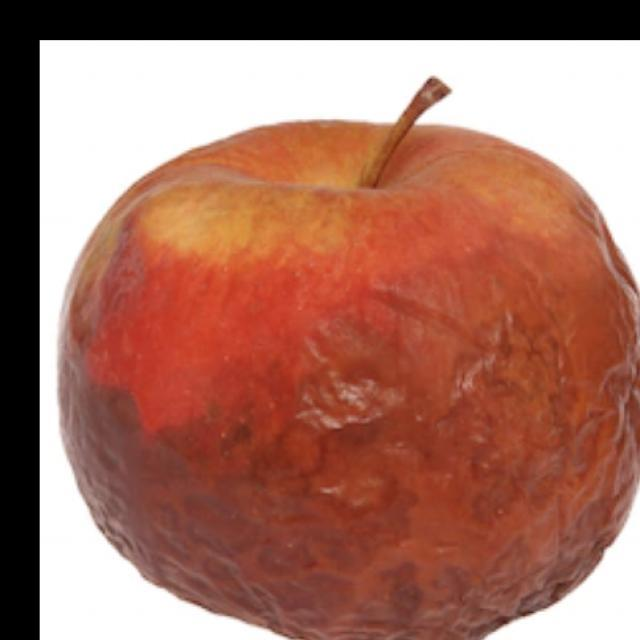Rotten: (88, 121, 640, 639)
